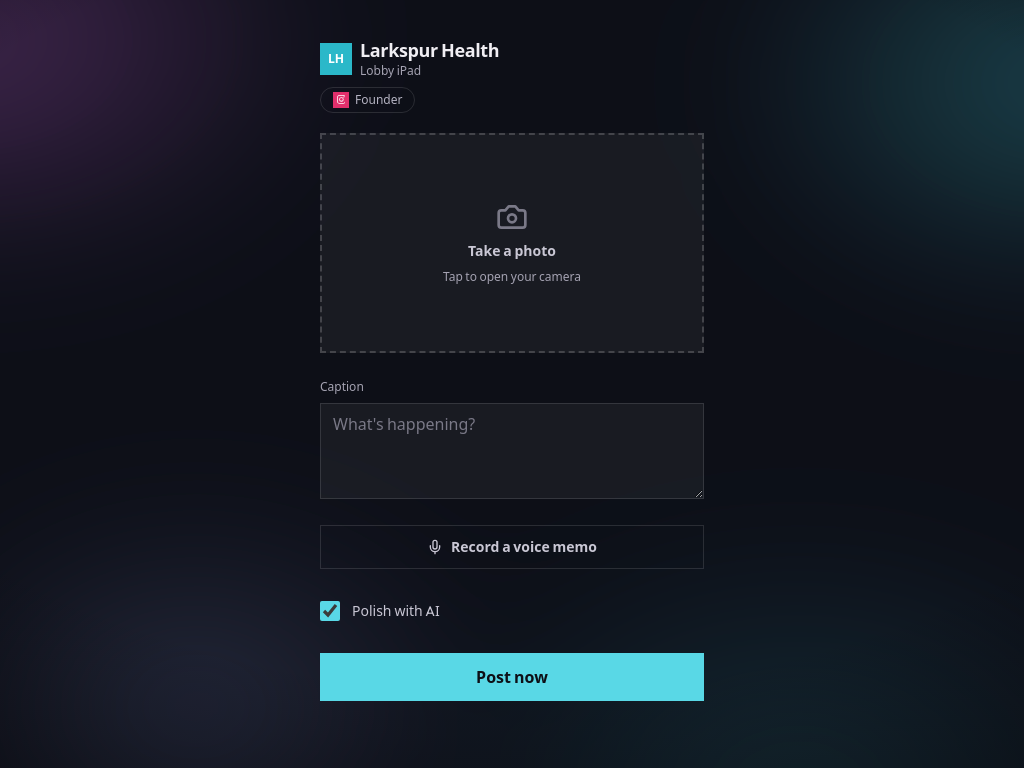
Test case: QuickPostPage › refuses to post without a photo
Expected: the text "Take a photo" is shown, 468,240 -> 556,260
Click the button "Post now". click: (512,676)
box: 320,652 -> 704,700
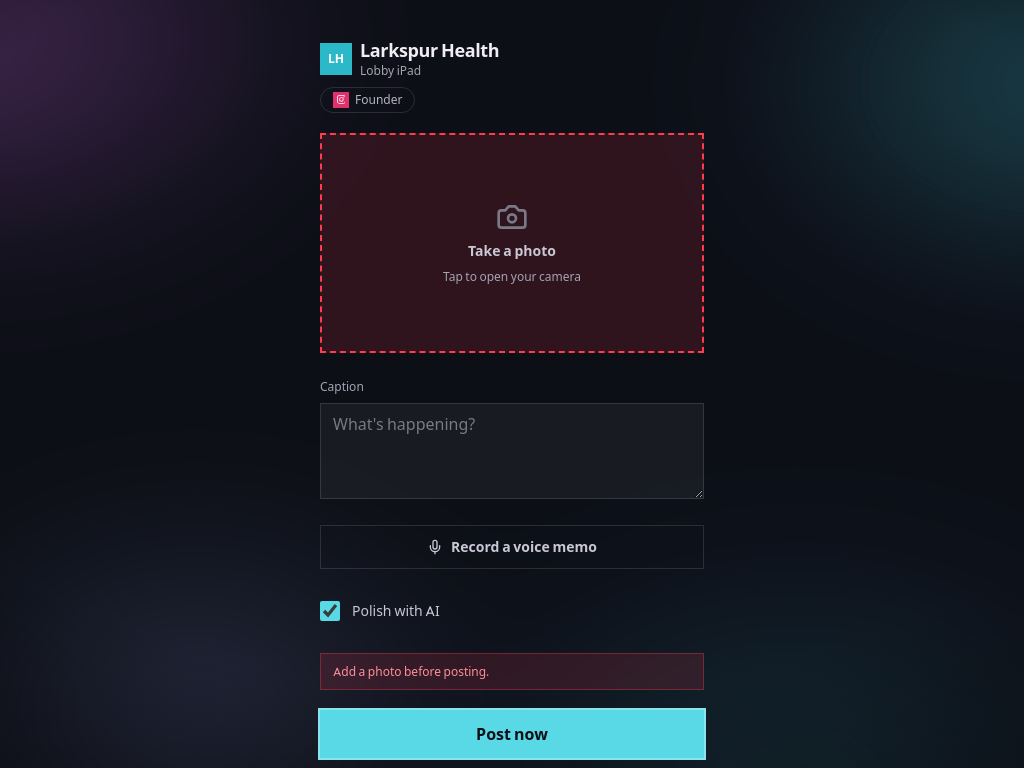
Result: the text "Add a photo before posting." is shown at 320,652 -> 704,690
